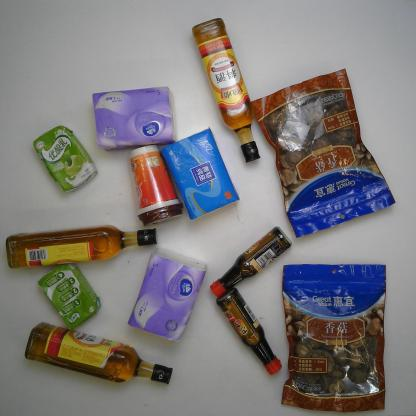Dried Food: (252, 67, 397, 239), (280, 263, 388, 413)
Instant Drink: (128, 144, 185, 227)
Milk: (31, 124, 98, 194), (36, 262, 102, 331)
Seasoner: (190, 16, 261, 164), (24, 322, 173, 386), (4, 223, 159, 270), (214, 286, 283, 376), (210, 225, 294, 298)
Tissue: (126, 246, 208, 342), (161, 127, 241, 224), (91, 85, 179, 153)
